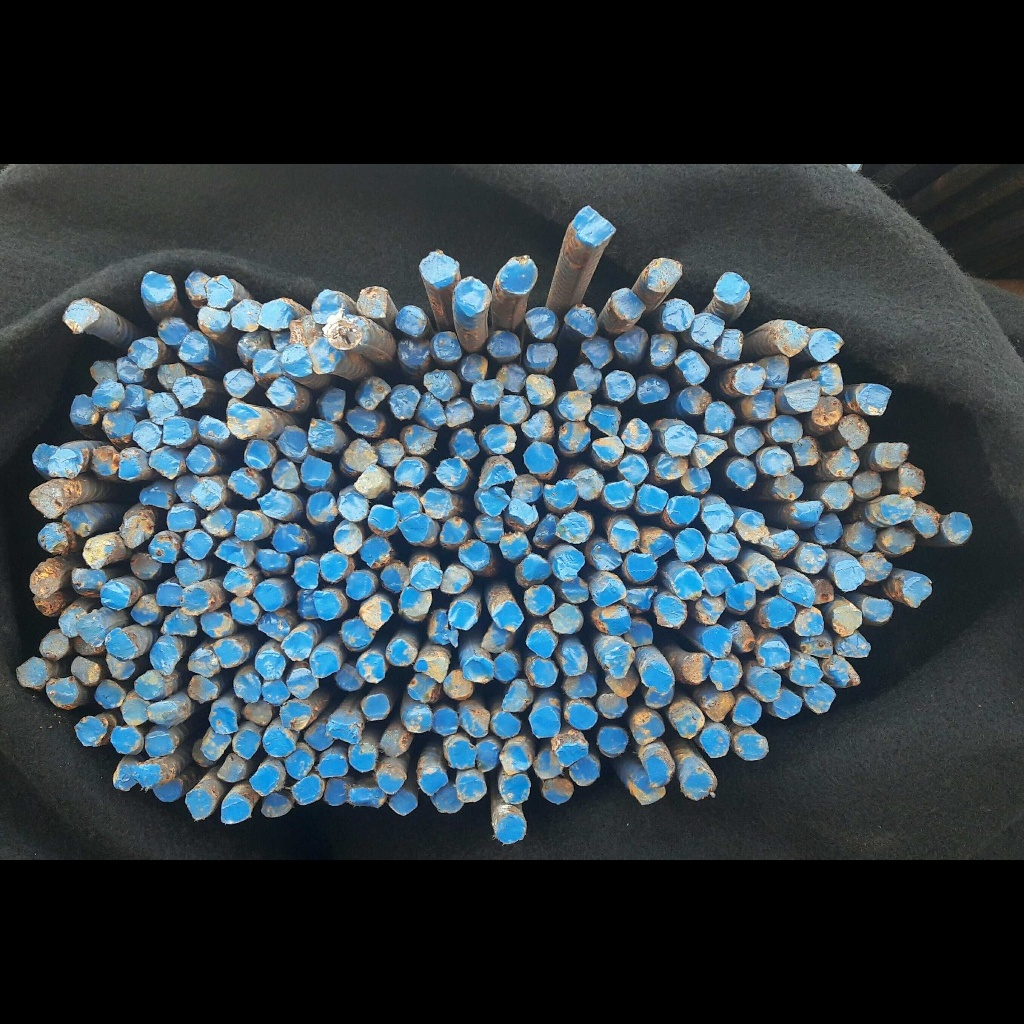dipstick: (573, 206, 615, 245), (500, 255, 537, 293), (419, 251, 458, 286), (454, 277, 491, 312), (225, 403, 261, 438), (353, 376, 390, 410), (63, 300, 99, 334), (37, 522, 73, 556), (309, 338, 344, 372), (778, 576, 815, 608), (346, 406, 384, 437), (312, 290, 346, 324), (646, 258, 681, 291), (693, 312, 725, 348), (423, 370, 462, 399), (714, 271, 748, 304), (676, 350, 709, 384), (276, 426, 308, 461), (356, 465, 389, 498), (777, 322, 809, 356), (228, 468, 263, 499), (316, 387, 346, 423), (838, 413, 868, 449), (103, 411, 136, 443), (360, 536, 393, 568), (662, 299, 694, 332), (141, 272, 175, 303), (389, 385, 420, 419), (30, 485, 64, 516), (120, 516, 154, 547), (564, 305, 598, 336), (341, 618, 376, 648), (482, 624, 517, 654), (407, 673, 442, 703), (611, 288, 646, 318), (674, 527, 704, 562), (604, 668, 640, 697), (822, 660, 860, 687), (394, 306, 426, 338), (664, 424, 696, 456), (856, 383, 888, 415), (834, 560, 866, 592), (265, 378, 296, 411), (198, 415, 229, 448), (346, 439, 377, 472), (47, 677, 80, 708), (621, 419, 652, 452), (656, 595, 687, 628), (591, 575, 625, 605), (901, 574, 931, 608), (327, 320, 362, 349), (215, 541, 254, 567), (178, 331, 209, 363), (148, 392, 179, 424), (356, 286, 387, 318), (300, 456, 332, 487), (106, 628, 138, 659), (149, 643, 180, 675), (400, 586, 432, 617), (502, 680, 533, 712), (550, 603, 582, 634), (524, 442, 555, 474), (605, 370, 636, 402), (588, 404, 620, 435), (552, 548, 583, 580), (764, 597, 796, 628), (735, 511, 766, 543), (222, 369, 255, 399), (521, 410, 554, 440), (581, 336, 614, 366), (398, 339, 432, 368), (148, 450, 182, 479), (418, 392, 447, 426), (636, 374, 670, 403), (556, 513, 590, 542), (881, 494, 915, 523), (282, 345, 313, 376), (361, 599, 392, 630), (421, 487, 452, 518), (600, 605, 631, 636), (702, 691, 733, 722), (750, 671, 781, 702), (191, 479, 223, 509), (83, 539, 115, 569), (368, 505, 398, 537), (526, 307, 558, 337), (459, 539, 489, 571), (711, 659, 741, 691), (703, 567, 735, 597), (767, 530, 799, 560), (733, 364, 765, 394), (795, 543, 827, 573), (231, 299, 260, 332), (261, 300, 294, 329), (48, 449, 81, 478), (244, 440, 277, 469), (187, 648, 220, 677), (632, 713, 665, 742), (682, 771, 715, 800), (641, 662, 674, 691), (747, 561, 780, 590), (695, 438, 728, 467), (809, 329, 838, 362), (813, 512, 842, 545), (199, 509, 233, 537), (72, 568, 106, 596), (481, 458, 515, 486), (544, 480, 578, 508), (614, 326, 648, 354), (646, 752, 674, 786), (785, 382, 819, 410), (128, 337, 158, 368), (173, 377, 203, 408), (132, 420, 162, 451), (308, 491, 339, 521), (179, 585, 210, 615), (333, 524, 363, 555), (74, 716, 105, 746), (292, 775, 323, 805), (432, 782, 463, 812), (446, 739, 476, 770), (529, 707, 560, 737), (673, 708, 704, 738), (668, 496, 699, 526), (758, 641, 789, 671), (726, 459, 757, 489), (827, 446, 858, 476), (860, 551, 891, 581), (16, 657, 48, 686), (337, 493, 369, 522), (574, 468, 603, 500), (803, 684, 835, 713), (911, 507, 940, 539), (943, 512, 972, 544), (327, 716, 360, 744), (498, 395, 531, 423), (760, 447, 793, 475), (789, 659, 822, 687), (308, 418, 335, 452), (235, 510, 265, 540), (162, 611, 198, 636), (280, 701, 310, 731), (381, 563, 411, 593), (494, 601, 524, 631), (494, 813, 524, 843), (618, 454, 648, 484), (626, 554, 656, 584), (90, 446, 119, 477), (118, 448, 147, 479), (211, 639, 242, 668), (249, 765, 280, 794), (287, 669, 316, 700), (526, 374, 555, 405), (485, 424, 516, 453), (443, 670, 472, 701), (473, 514, 504, 543), (559, 391, 590, 420), (569, 757, 600, 786), (702, 627, 733, 656), (726, 582, 757, 611), (702, 504, 733, 533), (705, 402, 734, 433), (814, 364, 843, 395), (93, 382, 125, 410), (272, 524, 304, 552), (130, 551, 162, 579), (263, 728, 295, 756), (410, 562, 442, 590), (477, 487, 509, 515), (605, 645, 633, 677), (611, 520, 639, 552), (708, 533, 740, 561), (206, 276, 233, 309), (222, 569, 255, 596), (770, 416, 803, 443), (898, 463, 925, 496), (881, 527, 915, 553), (70, 395, 100, 424), (186, 445, 215, 475), (183, 530, 212, 560), (40, 629, 69, 659), (131, 596, 160, 626), (71, 656, 100, 686), (356, 653, 385, 683), (525, 585, 554, 615), (508, 500, 537, 530), (733, 696, 762, 726), (846, 523, 876, 552), (148, 536, 179, 564), (436, 458, 467, 486), (675, 569, 703, 600), (680, 387, 711, 415), (794, 436, 822, 467), (832, 607, 863, 635), (559, 423, 591, 450), (488, 331, 521, 357), (461, 656, 494, 682), (633, 778, 666, 804), (735, 734, 768, 760), (257, 549, 291, 574), (406, 425, 435, 454), (497, 364, 526, 393), (402, 704, 431, 733), (682, 654, 711, 683), (30, 569, 60, 597), (76, 616, 104, 646), (95, 680, 125, 708), (105, 652, 135, 680), (185, 790, 213, 820), (234, 730, 262, 760), (457, 774, 487, 802), (500, 775, 530, 803), (527, 629, 557, 657), (499, 531, 529, 559), (574, 363, 602, 393), (700, 729, 730, 757), (604, 480, 634, 508), (637, 484, 667, 512), (272, 459, 299, 490), (134, 673, 165, 700), (452, 428, 479, 459), (811, 397, 842, 424), (822, 482, 853, 509), (201, 611, 233, 637), (254, 651, 286, 677), (717, 330, 743, 362), (138, 486, 174, 509), (198, 306, 231, 331), (540, 778, 573, 803), (555, 742, 588, 767), (730, 620, 755, 653), (836, 634, 870, 658), (162, 417, 191, 445), (100, 582, 129, 610), (345, 571, 374, 599), (120, 697, 148, 726), (234, 674, 262, 703), (285, 750, 313, 779), (433, 331, 461, 360), (461, 708, 489, 737), (500, 745, 529, 773), (534, 750, 563, 778), (599, 727, 628, 755), (231, 598, 261, 625), (259, 614, 289, 641), (304, 723, 334, 750), (349, 742, 376, 772), (395, 460, 425, 487), (399, 514, 429, 541), (521, 554, 551, 581), (593, 437, 623, 464), (560, 645, 587, 675), (591, 542, 621, 569), (642, 532, 672, 559), (735, 427, 765, 454), (175, 559, 206, 585), (207, 708, 238, 734), (441, 567, 472, 593), (386, 640, 417, 666), (526, 342, 557, 368), (253, 349, 285, 374), (471, 380, 503, 405), (651, 334, 676, 366), (656, 454, 688, 479), (221, 795, 249, 823), (335, 662, 363, 690), (529, 658, 557, 686), (773, 691, 801, 719), (682, 465, 710, 493), (159, 318, 188, 345), (115, 356, 144, 383), (254, 583, 283, 610), (321, 553, 348, 582), (282, 633, 311, 660), (111, 726, 140, 753), (445, 399, 474, 426), (512, 475, 541, 502), (696, 597, 725, 624), (853, 471, 882, 498), (156, 363, 186, 389), (440, 517, 470, 543), (567, 704, 598, 729), (32, 594, 67, 616), (876, 443, 908, 467), (801, 635, 833, 659), (415, 658, 448, 681), (123, 386, 151, 413), (58, 609, 85, 637), (218, 755, 246, 782), (377, 766, 405, 793), (448, 603, 476, 630), (561, 576, 589, 603), (148, 701, 177, 727), (153, 777, 183, 802), (188, 676, 218, 701), (318, 753, 348, 778), (598, 693, 628, 718), (261, 794, 292, 818), (862, 598, 893, 622), (262, 679, 289, 706), (310, 651, 337, 678), (432, 708, 459, 735), (314, 592, 340, 620), (191, 738, 217, 766), (389, 790, 417, 816), (462, 353, 488, 381), (563, 676, 596, 698), (764, 357, 789, 386), (418, 770, 448, 794), (31, 443, 58, 469), (377, 439, 403, 466), (167, 505, 194, 531), (294, 560, 319, 588), (146, 731, 174, 756), (494, 653, 519, 681), (624, 622, 653, 646), (752, 390, 776, 419), (476, 742, 498, 773), (381, 731, 407, 757), (325, 778, 350, 805), (362, 694, 389, 719), (493, 712, 520, 737), (774, 476, 802, 500), (795, 612, 824, 635), (186, 271, 211, 297), (174, 475, 198, 502), (156, 583, 183, 607), (243, 702, 271, 725), (392, 493, 420, 516), (136, 764, 162, 788), (90, 360, 118, 382), (296, 590, 317, 619), (794, 502, 821, 524), (813, 579, 834, 603), (114, 767, 135, 790)
